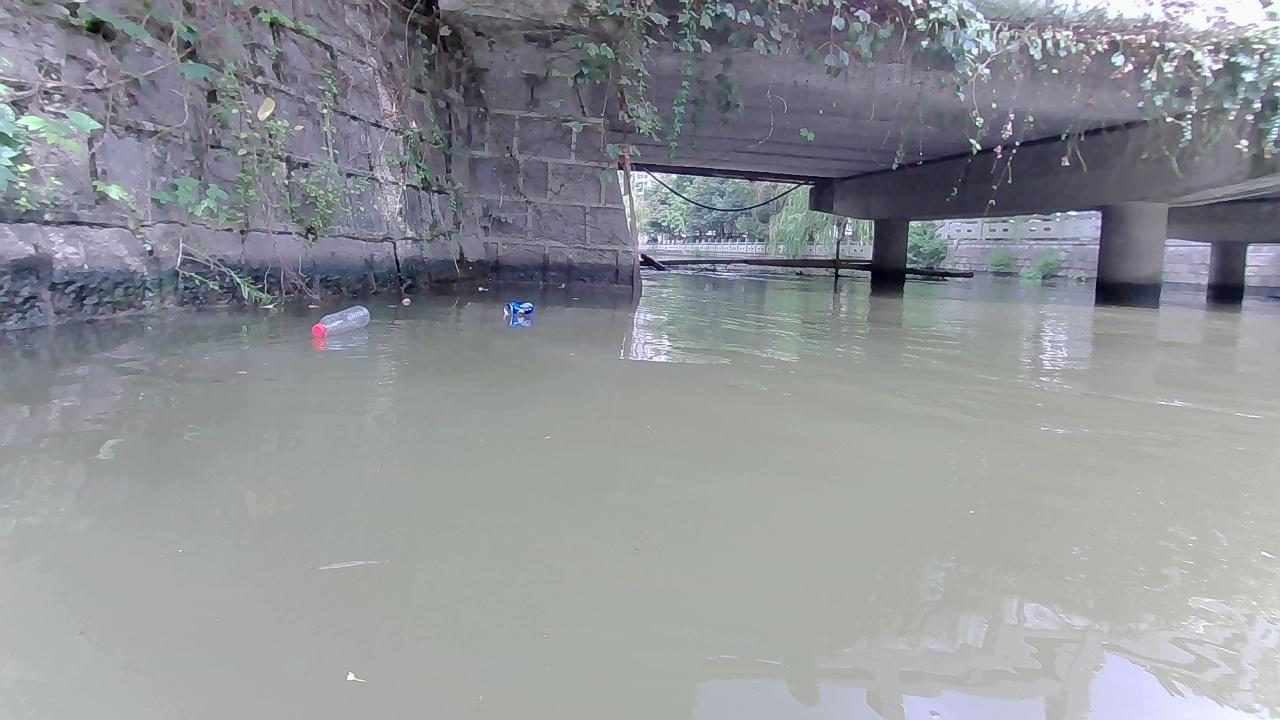bottle: (309, 304, 371, 336), (502, 300, 534, 314)
